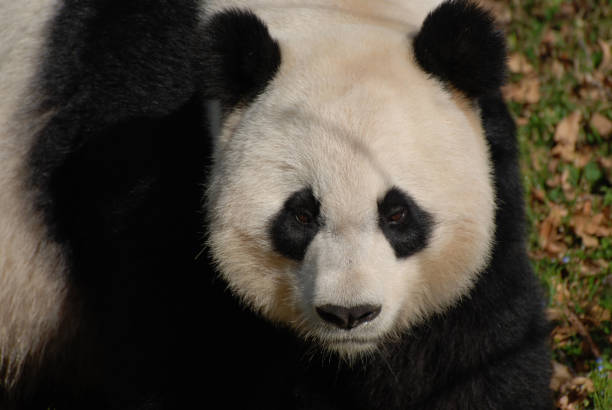panda: (170, 6, 536, 358)
